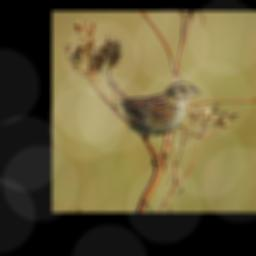Sparrow: (101, 72, 202, 172)
